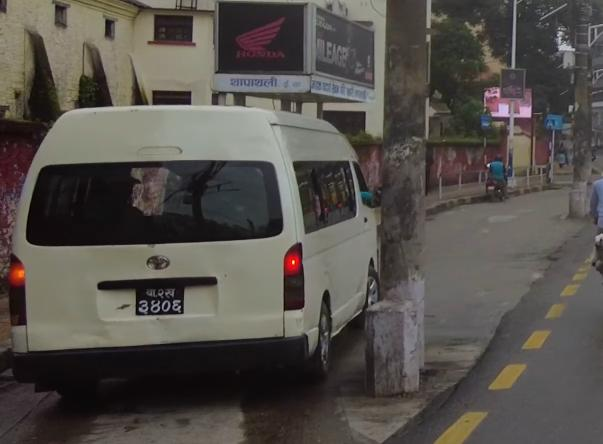micro_bus: (3, 87, 388, 397)
